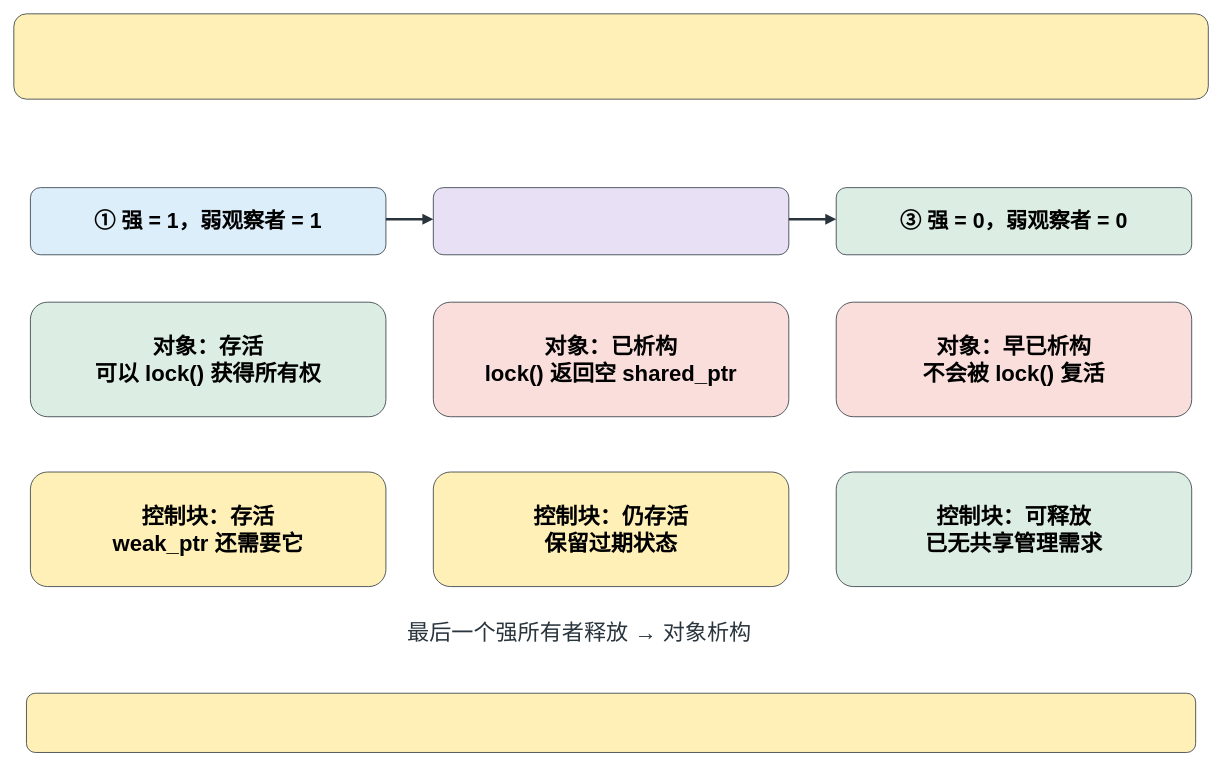
Some shapes in this 1222 by 766 pixel diagram are drawn without their labels. The shapes that lost their labels are listed below. From the top down, each one's centre as x and y in pixels, then its label:
At (x=610, y=56): "03｜对象先结束，控制块可以后结束".
At (x=611, y=221): "② 强 = 0，弱观察者 = 1".
At (x=611, y=722): "make_shared 合并分配时：对象已析构，不代表整块合并存储已经归还。".
